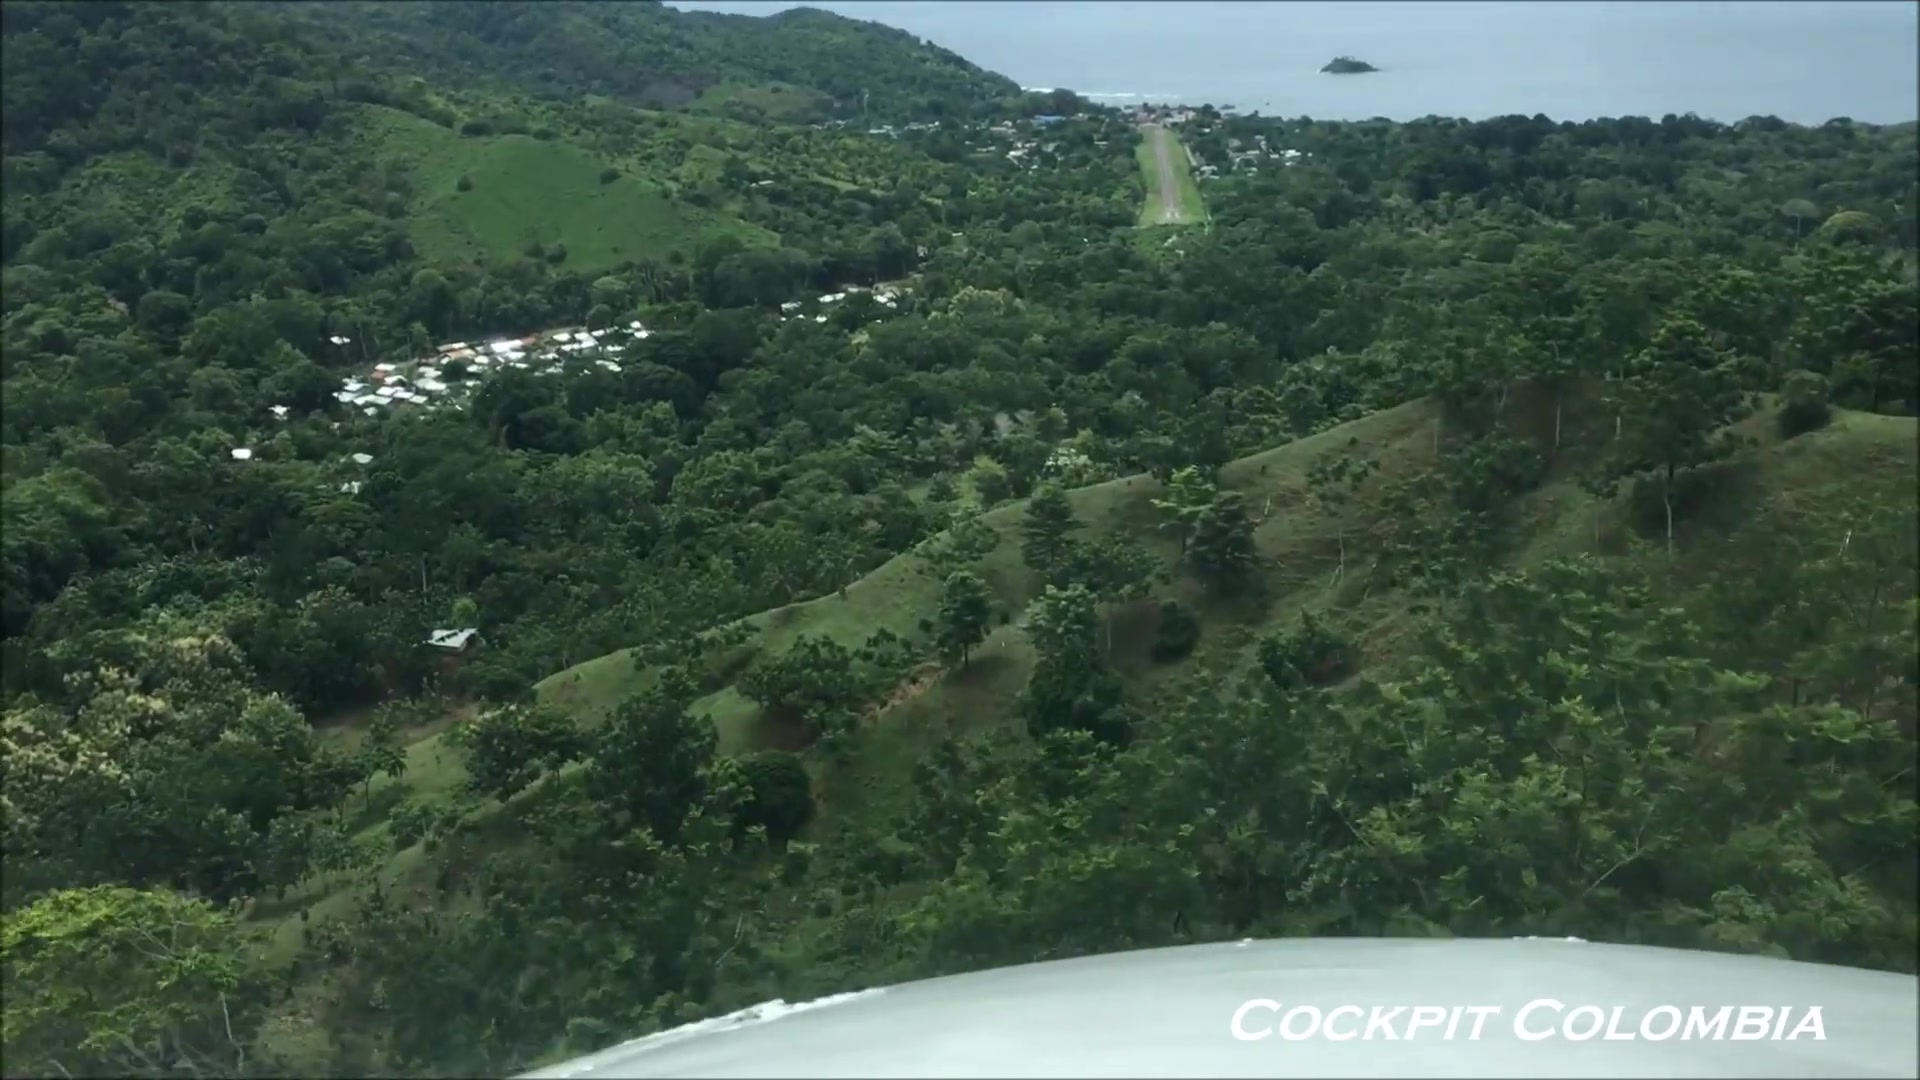runway: (1153, 131, 1185, 222)
